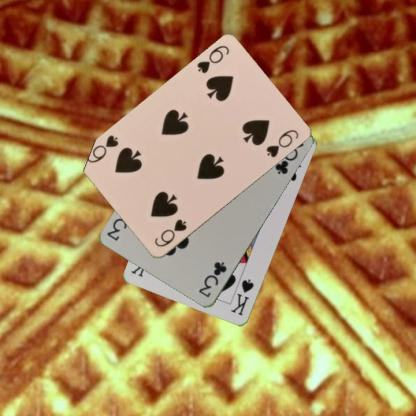3c: (196, 260, 228, 300)
6s: (194, 42, 231, 76), (152, 217, 188, 249)
Ks: (228, 277, 256, 317)
